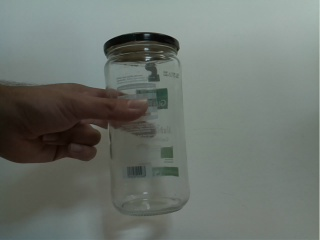pote cristal: (101, 30, 194, 218)
